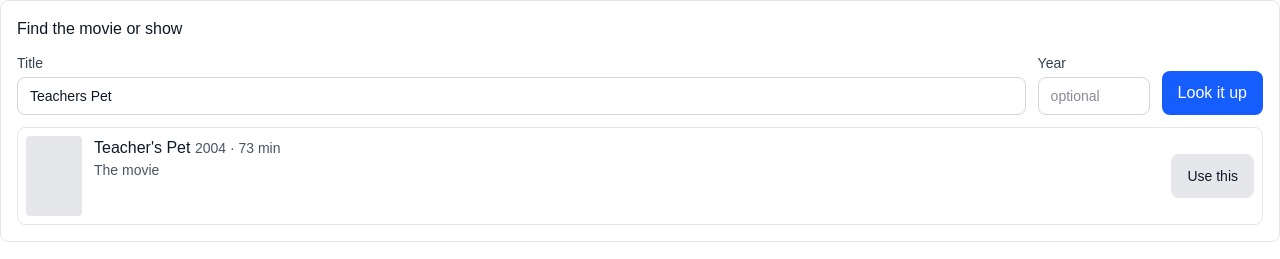
Test: results from TheTVDB › a TMDB result still says TMDB and links to TMDB
Click the button "Use this". click: point(1213, 176)
box: [1171,154,1254,198]
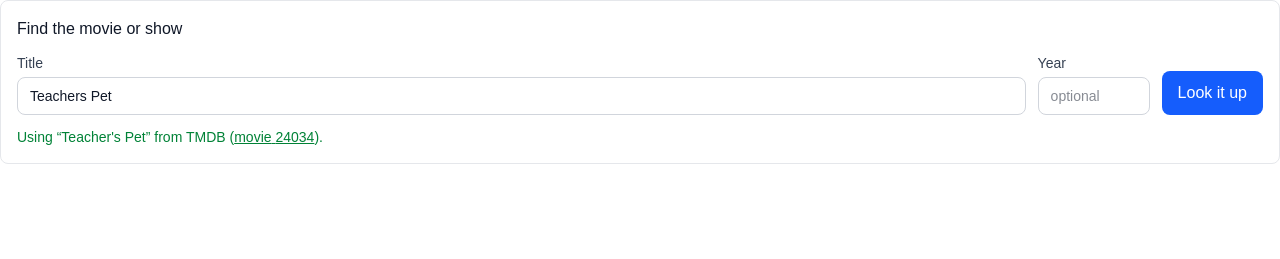
Expected: the text "Using “Teacher's Pet” from TMDB ( movie 24034 )." is shown, [17,129,323,145]
